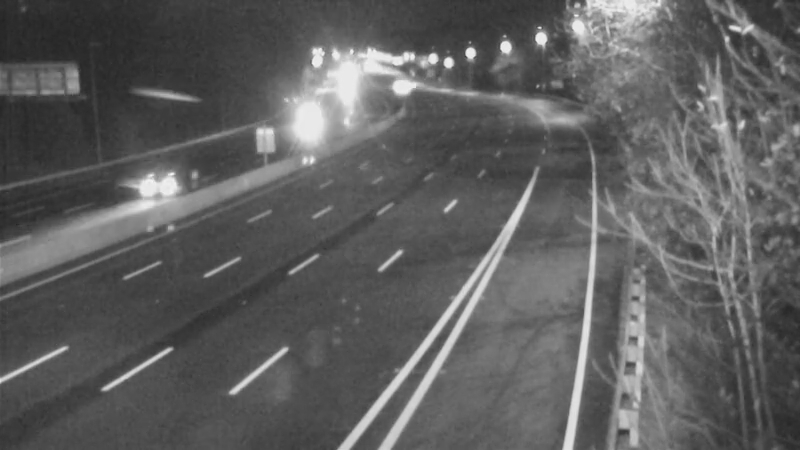vehicle: (125, 141, 205, 221), (374, 61, 424, 111), (286, 94, 336, 144)
